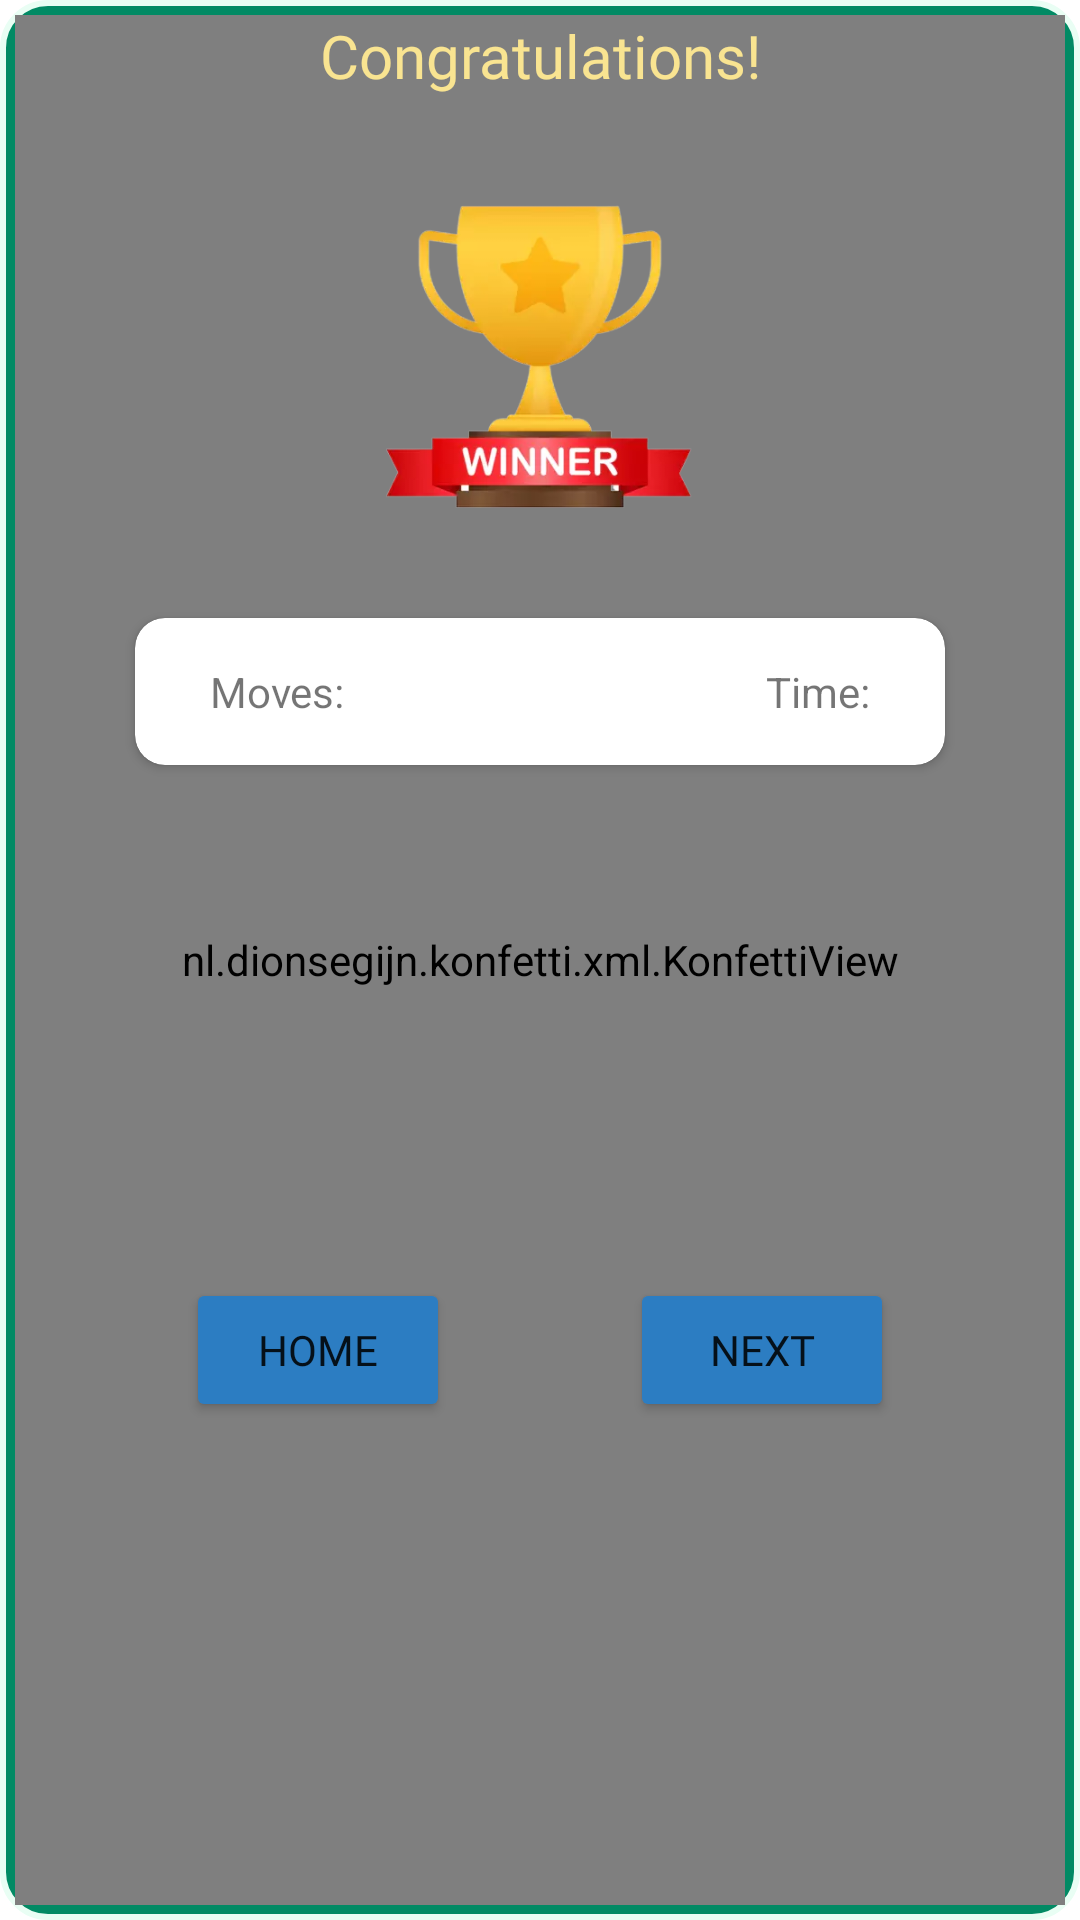

Icon click points for this 1080px×1920px phone screenshot, format (x=x, y=y):
cup: (x=539, y=356)
